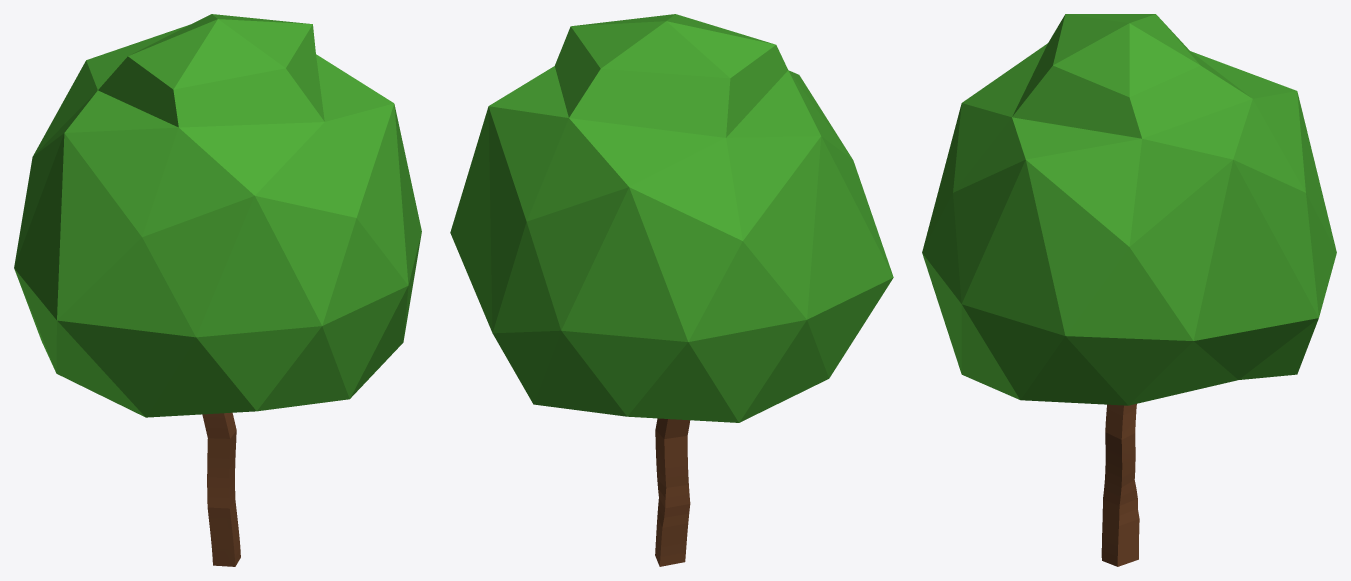
File: centeredtree.fbx
The picture shows the model from 3 angles, left to right: view 1: azimuth 30°, elevation 25°; view 2: azimuth 150°, elevation 25°; view 3: azimuth 270°, elevation 25°; orthographic projection.
Parts seen in each view (by area): view 1: maple tree; view 2: maple tree; view 3: maple tree.
Part boxes in pixels (box(x1,y1,x2,y2)): maple tree: box(14, 14, 421, 566); maple tree: box(450, 14, 893, 566); maple tree: box(922, 14, 1336, 566).
Bounding box in the file's own units: 794 × 1088 × 764.
